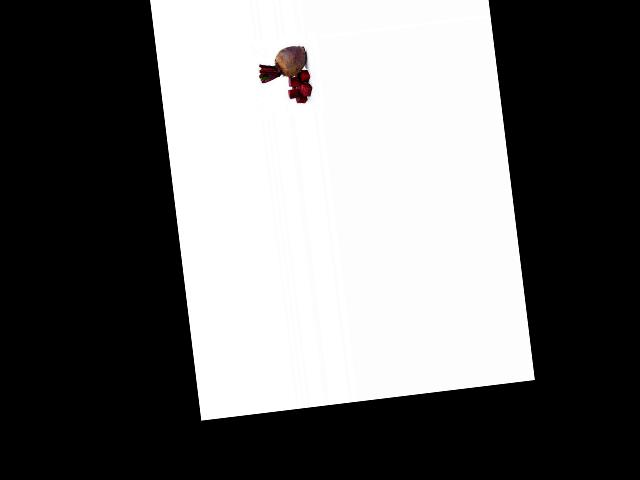beet: (256, 45, 309, 83)
